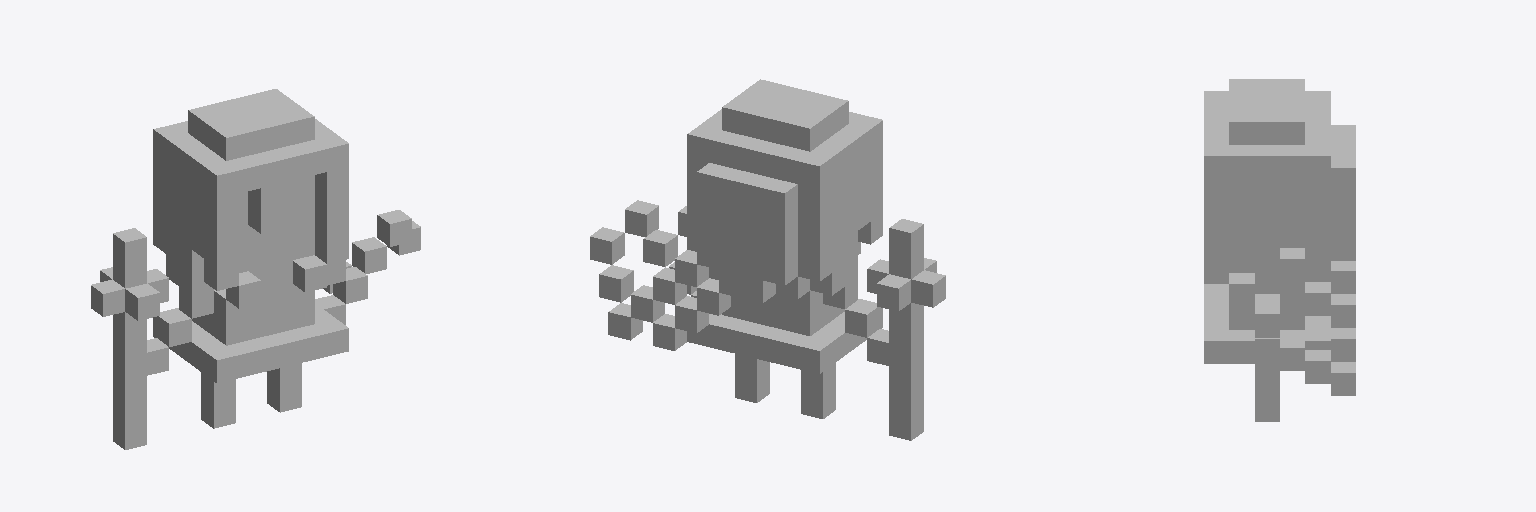
File: player.obj
3 views of the same model, side by side, from view 1: azimuth 30°, elevation 25°; view 2: azimuth 150°, elevation 25°; view 3: azimuth 270°, elevation 25° (orthographic).
Parts seen in each view (by area): view 1: ObjObject.001; view 2: ObjObject.001; view 3: ObjObject.001.
Boxes of the visible parts, x1=… form: ObjObject.001: x1=91, y1=89, x2=420, y2=449; ObjObject.001: x1=590, y1=79, x2=945, y2=440; ObjObject.001: x1=1204, y1=79, x2=1355, y2=421.
Bounding box in the file's own units: 1.5 × 1.3 × 0.6.